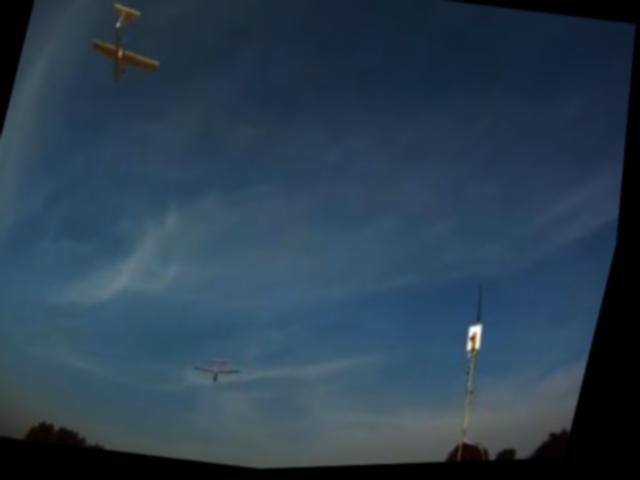uav: (76, 0, 178, 94)
